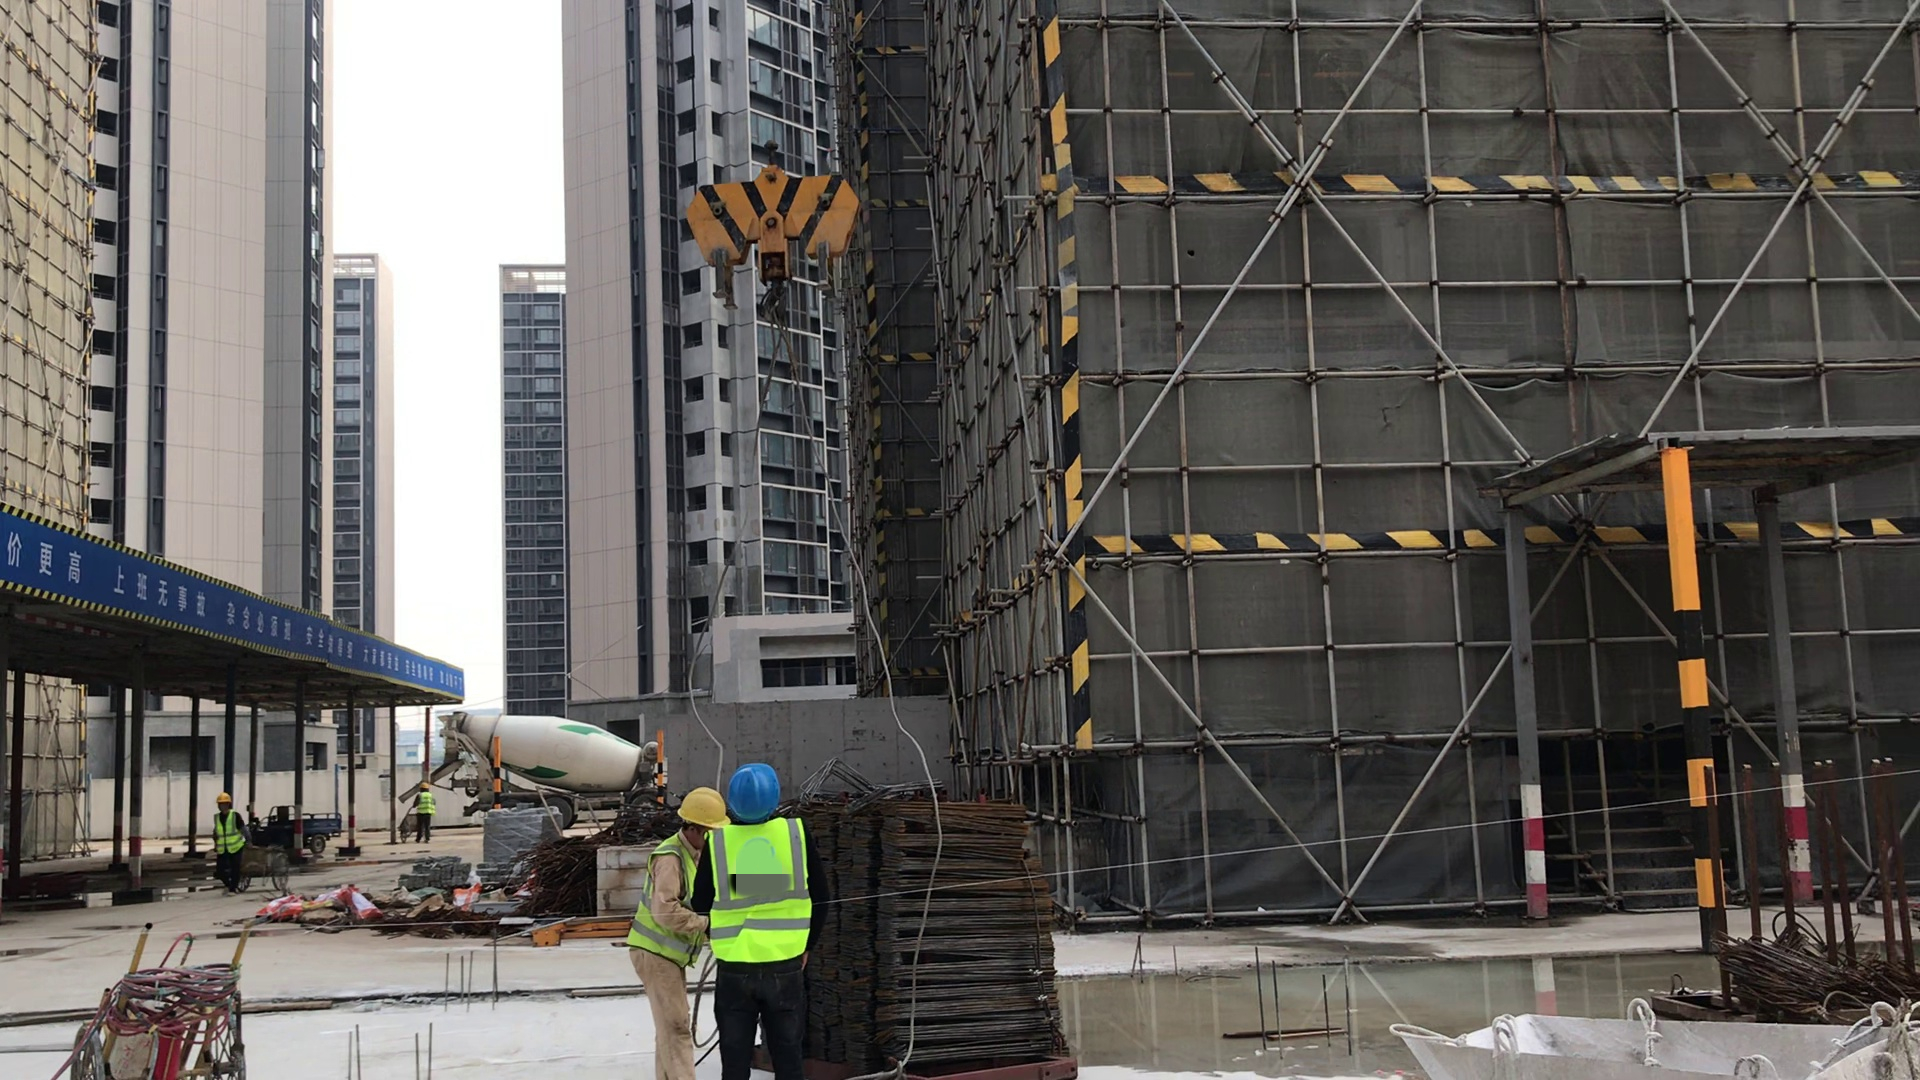handcart: (71, 920, 260, 1080), (234, 847, 292, 896), (396, 809, 426, 843)
helmet: (722, 765, 782, 823), (670, 787, 728, 831), (212, 791, 236, 807), (417, 782, 430, 791)
hook: (686, 138, 860, 309)
person: (617, 789, 751, 1078), (701, 757, 822, 1078), (206, 789, 253, 897), (409, 780, 438, 844)
slogan: (1, 504, 470, 694)
vest: (709, 831, 805, 958), (639, 829, 705, 965), (206, 811, 244, 853), (415, 794, 435, 813)
